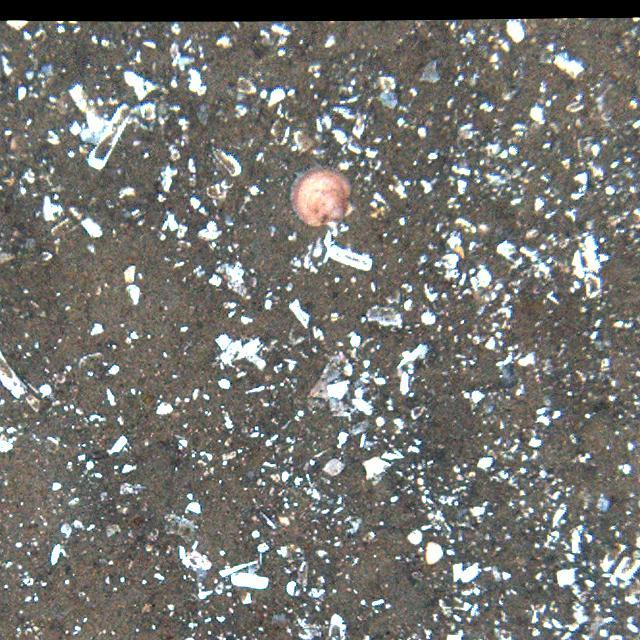scallop: (292, 167, 356, 229)
